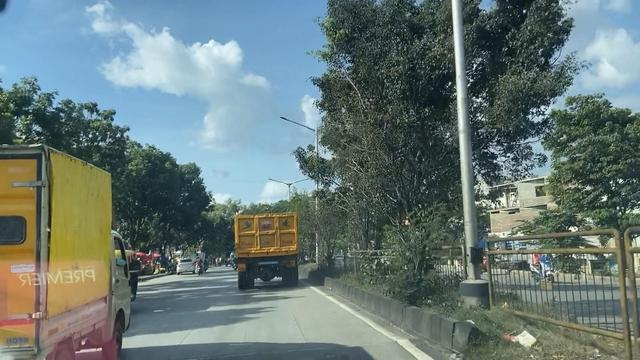HMV: (6, 146, 138, 360), (233, 206, 298, 288)
